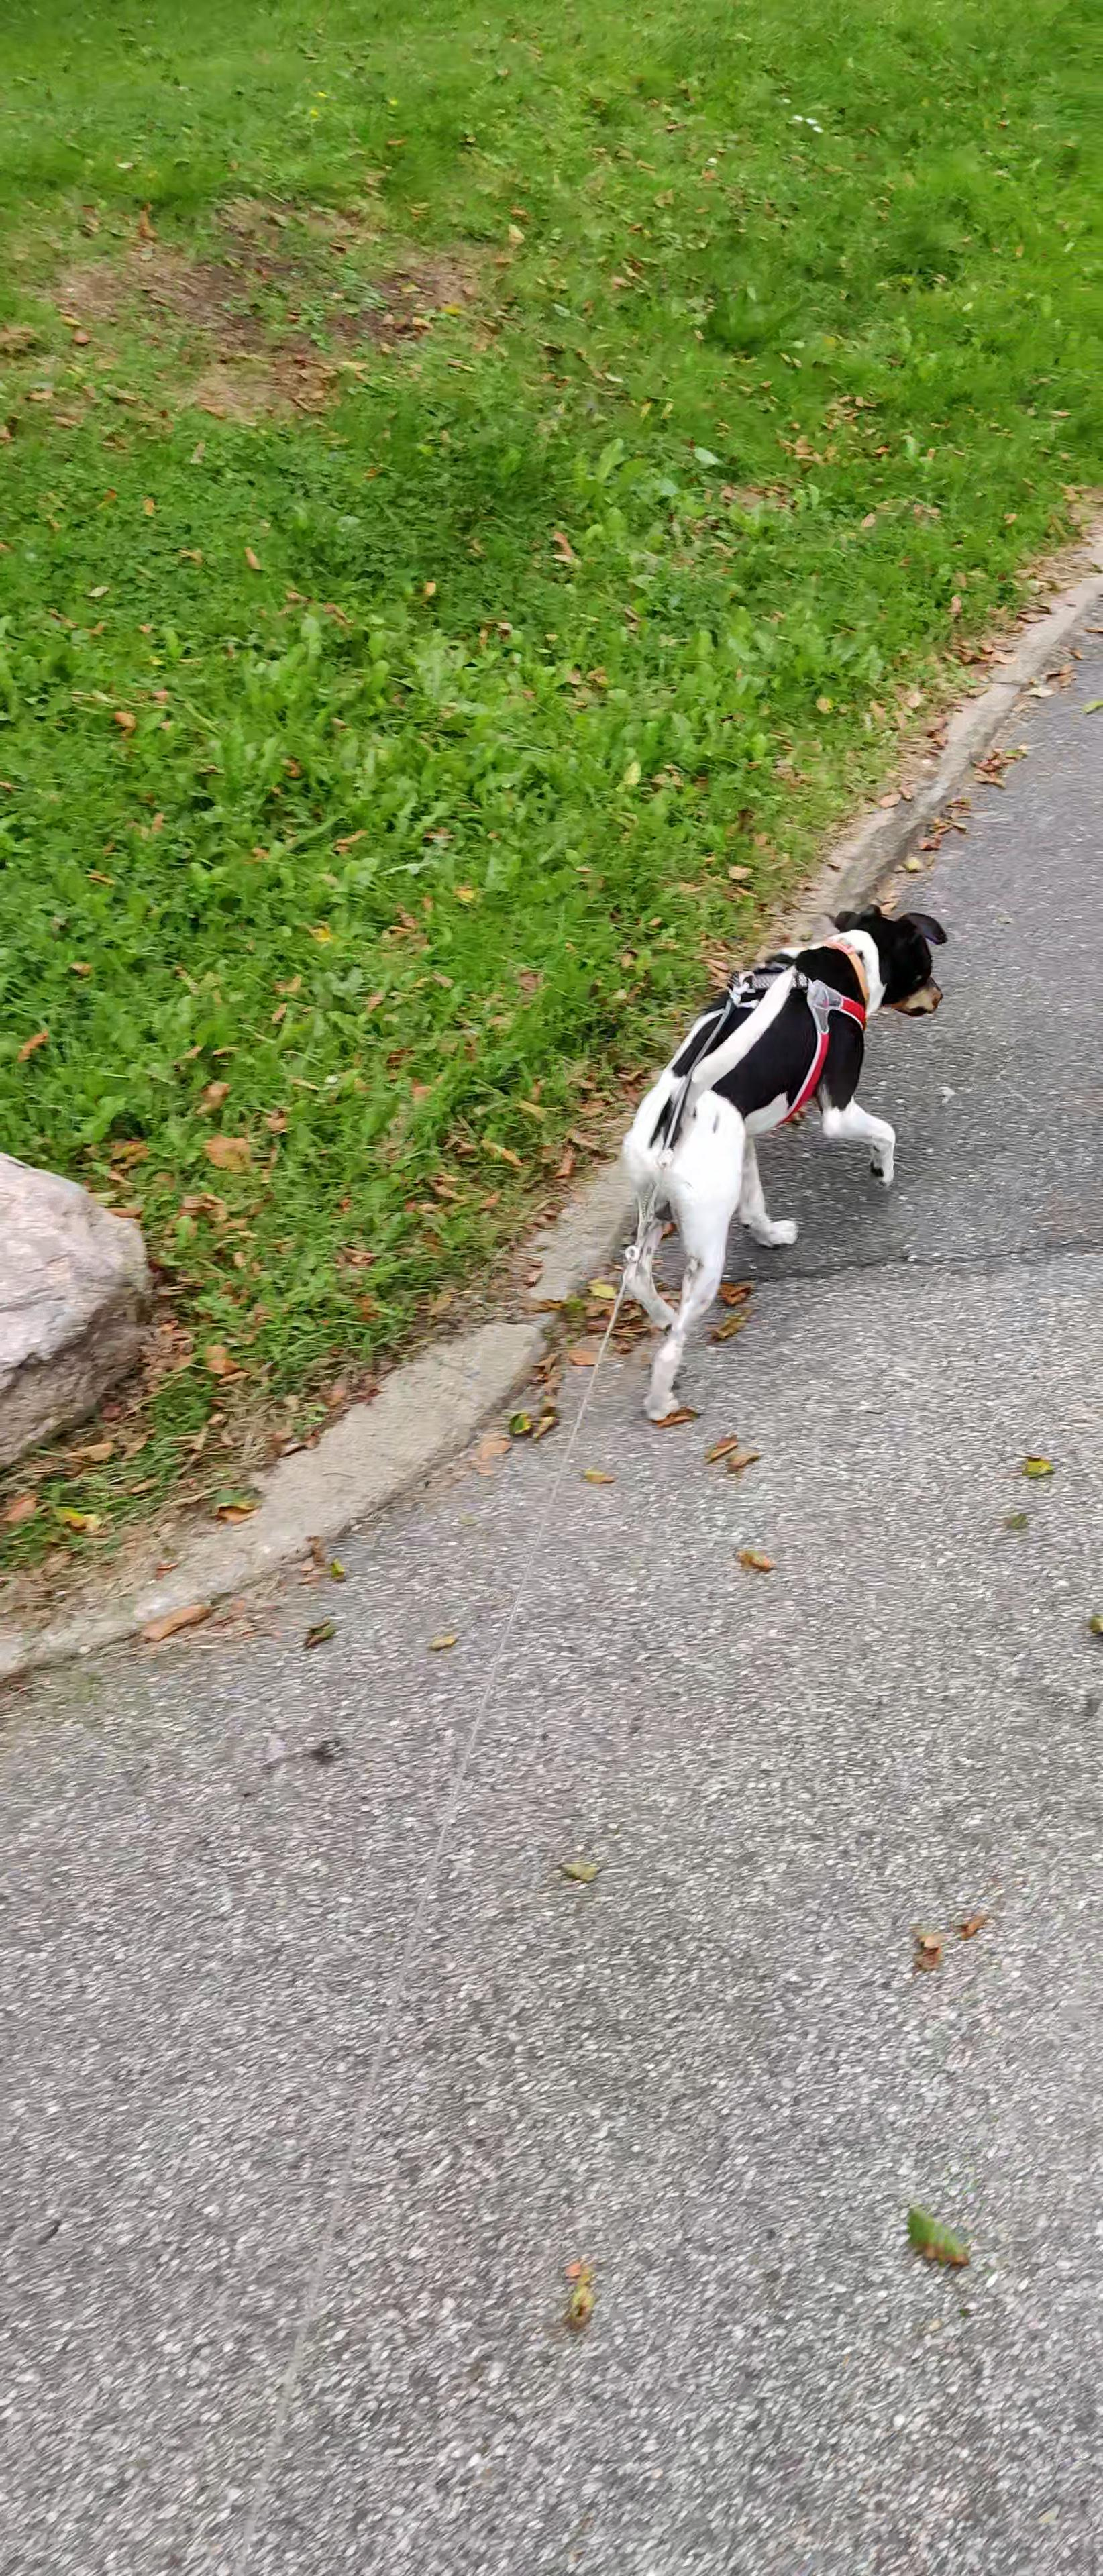Dog: (613, 900, 952, 1426)
